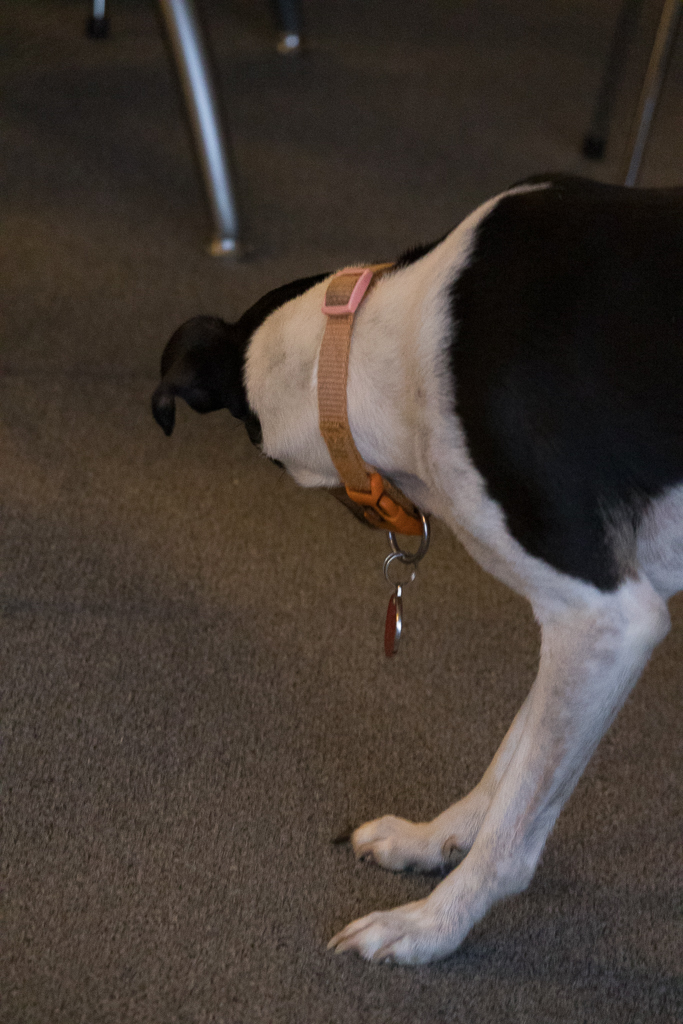Dog: (138, 165, 683, 977)
